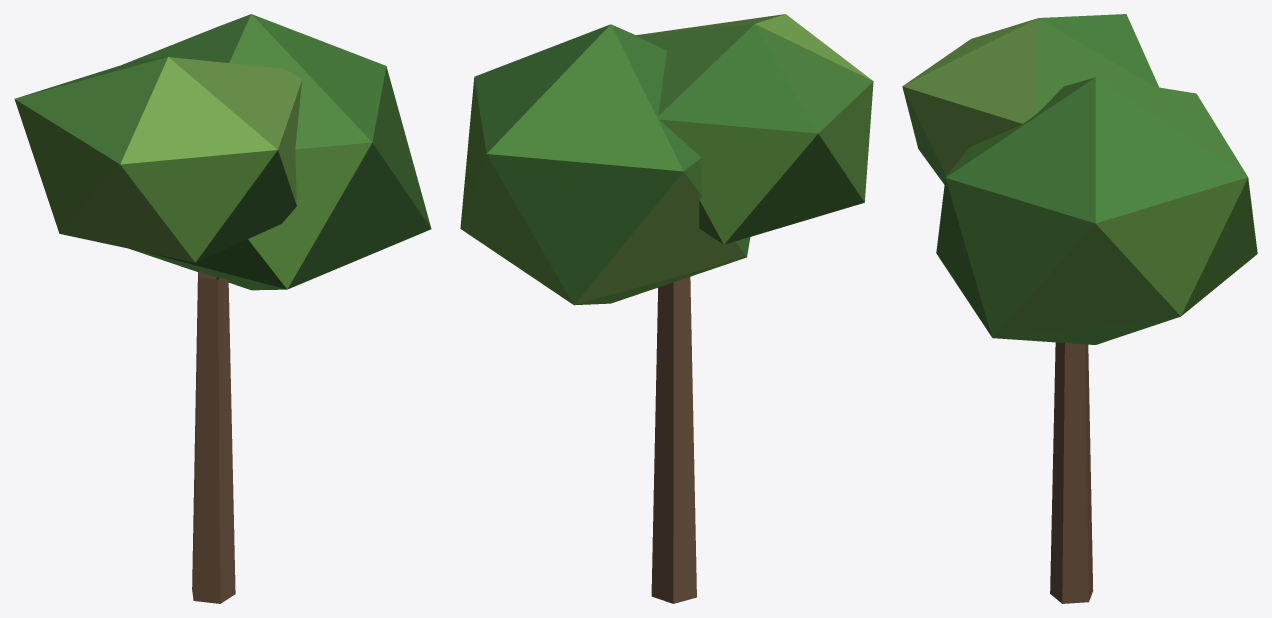
Rendered from tree_far_broadleaf.glb.
The picture shows the model from 3 angles, left to right: view 1: azimuth 30°, elevation 25°; view 2: azimuth 150°, elevation 25°; view 3: azimuth 270°, elevation 25°; orthographic projection. The views are drawn at different scales.
Parts seen in each view (by area): view 1: tree_far_broadleaf; view 2: tree_far_broadleaf; view 3: tree_far_broadleaf.
Part boxes in pixels (<box>): tree_far_broadleaf: <box>14,14,431,603</box>; tree_far_broadleaf: <box>460,14,873,603</box>; tree_far_broadleaf: <box>902,14,1257,603</box>.
Size of the model in its own units: 3.48 by 5.28 by 3.1.
